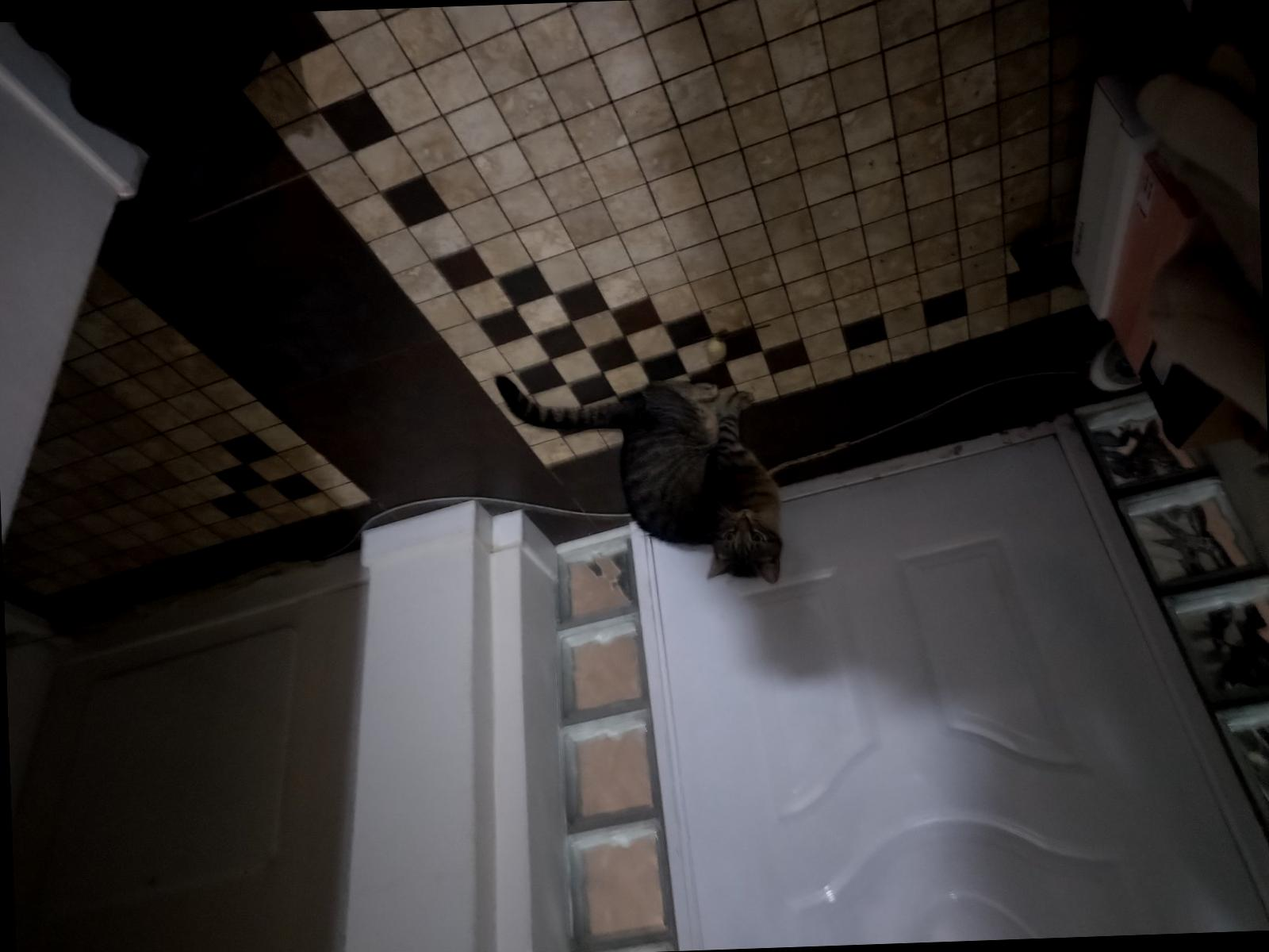macka: (495, 365, 789, 593)
